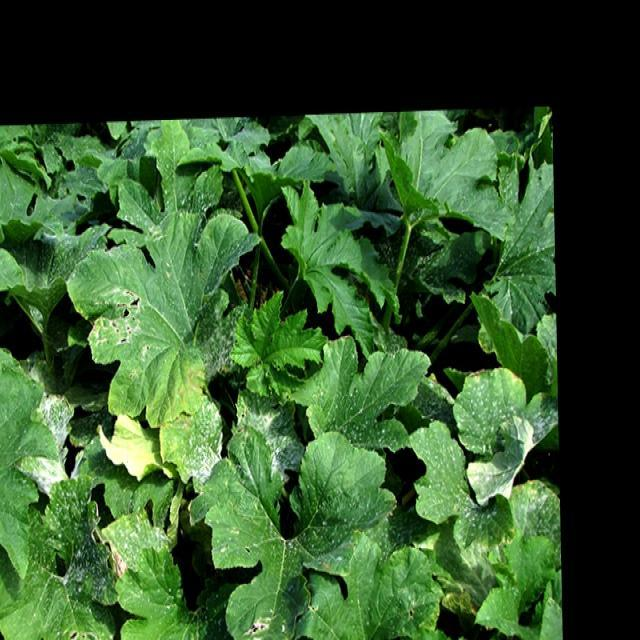Leaf_Mold: (70, 192, 306, 492), (0, 443, 200, 640), (408, 315, 562, 542), (0, 126, 138, 324), (424, 134, 558, 328), (4, 338, 85, 454)
